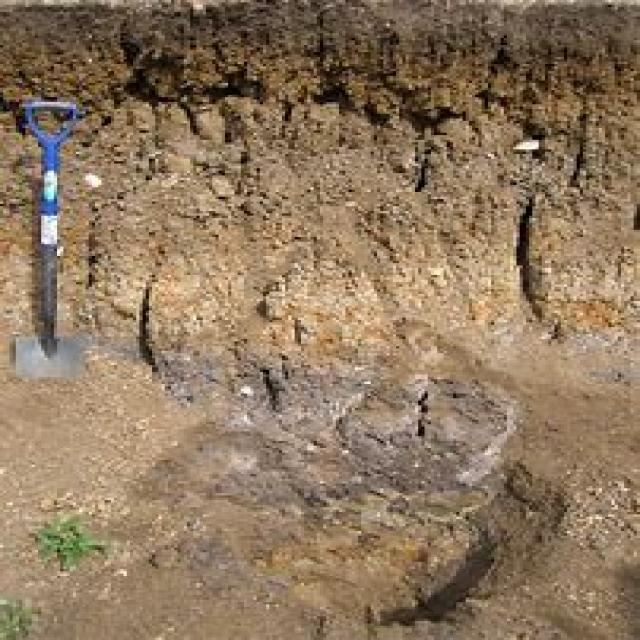Alluvial Soil: (125, 122, 604, 516)
